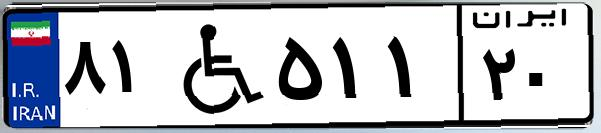0: (525, 38, 570, 115)
1: (385, 28, 445, 110), (330, 28, 385, 110), (110, 28, 158, 98)
2: (475, 38, 525, 113)
5: (270, 28, 330, 110)
8: (57, 26, 110, 100)
ژ (معلولین و جانبازان): (158, 12, 270, 120)
